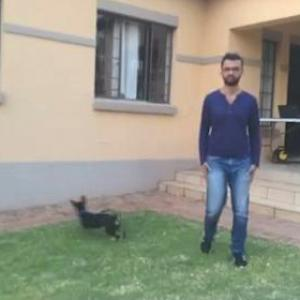follow: (193, 54, 260, 262)
